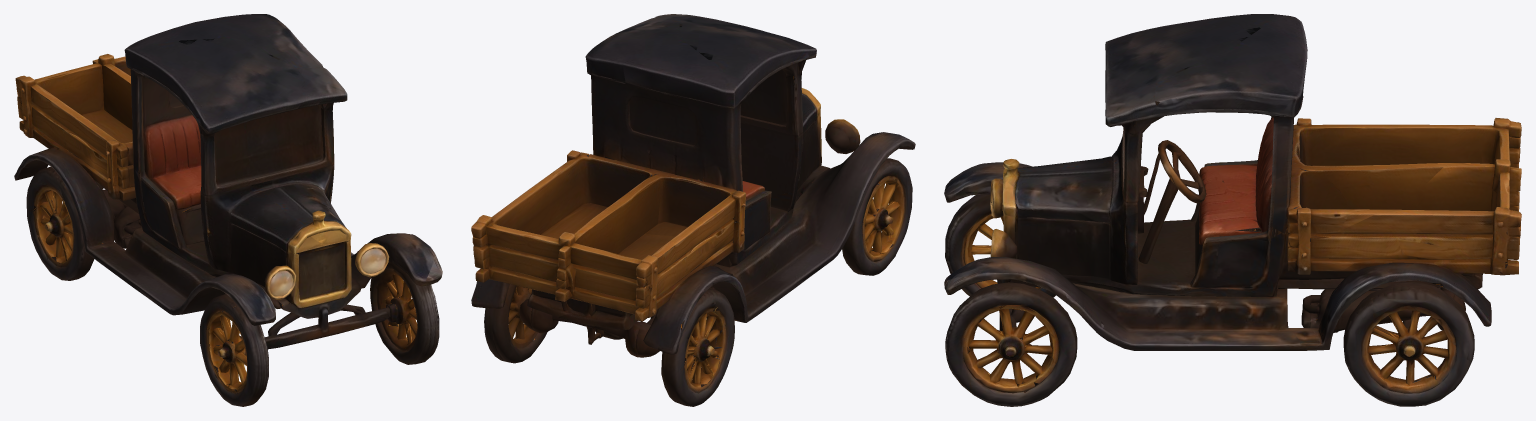
Rendered from model-t-pickup.glb.
3 renders of one model, left to right at view 1: azimuth 30°, elevation 25°; view 2: azimuth 150°, elevation 25°; view 3: azimuth 270°, elevation 25°, orthographic. The views are drawn at different scales.
Visible parts, largest first — view 1: SM_ModelTPickup; view 2: SM_ModelTPickup; view 3: SM_ModelTPickup.
Boxes of the visible parts, left/top/right/bottom form: SM_ModelTPickup: left=14, top=14, right=442, bottom=406; SM_ModelTPickup: left=471, top=14, right=915, bottom=406; SM_ModelTPickup: left=944, top=14, right=1521, bottom=406.
Bounding box in the file's own units: 1.76 × 2.27 × 3.8.
Materials: 1 (1 with a texture image).
